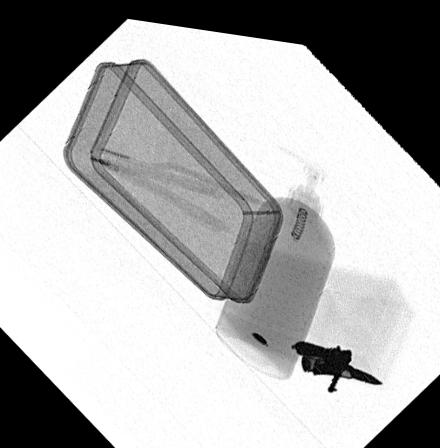Bullet: (301, 341, 382, 372)
Gun: (289, 328, 352, 383)
